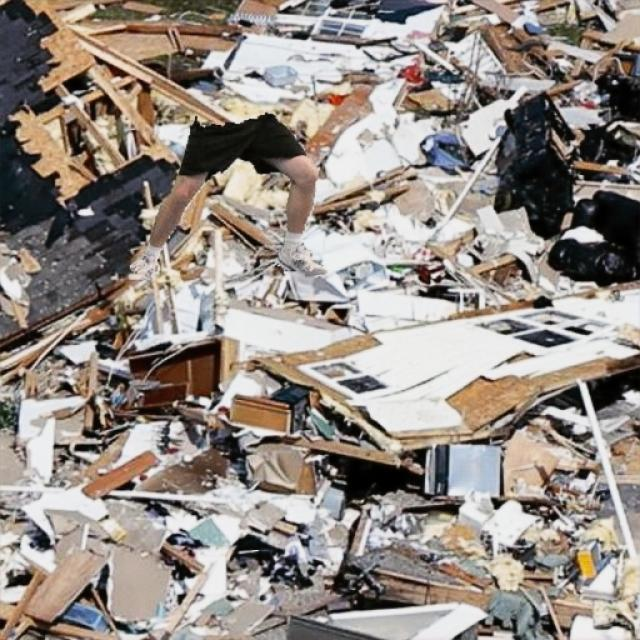Person in Rubble: (128, 112, 326, 278)
